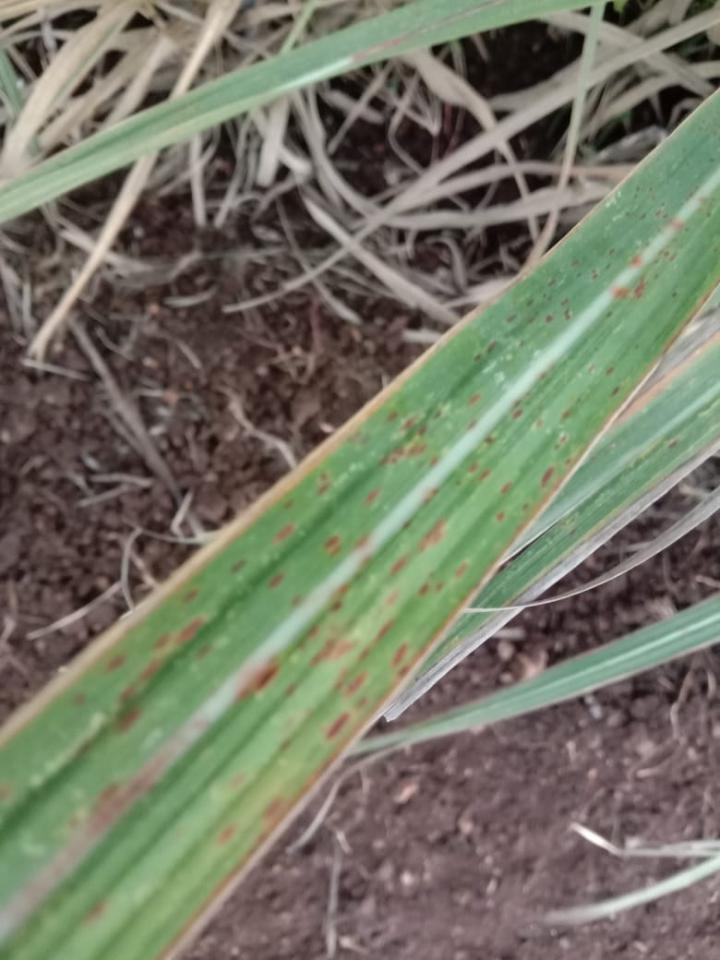Rust: (0, 94, 719, 959)
